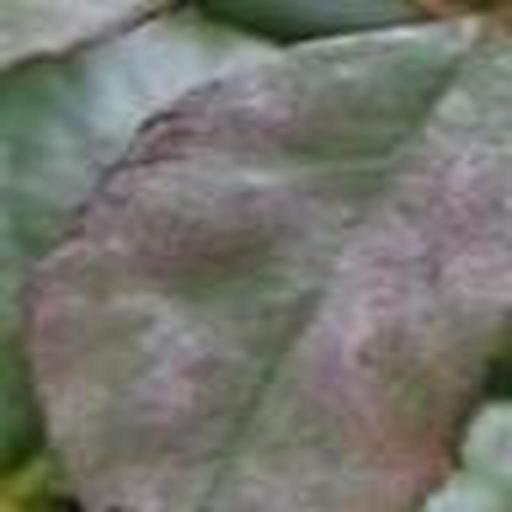powdery_mildew: (28, 28, 512, 512)
